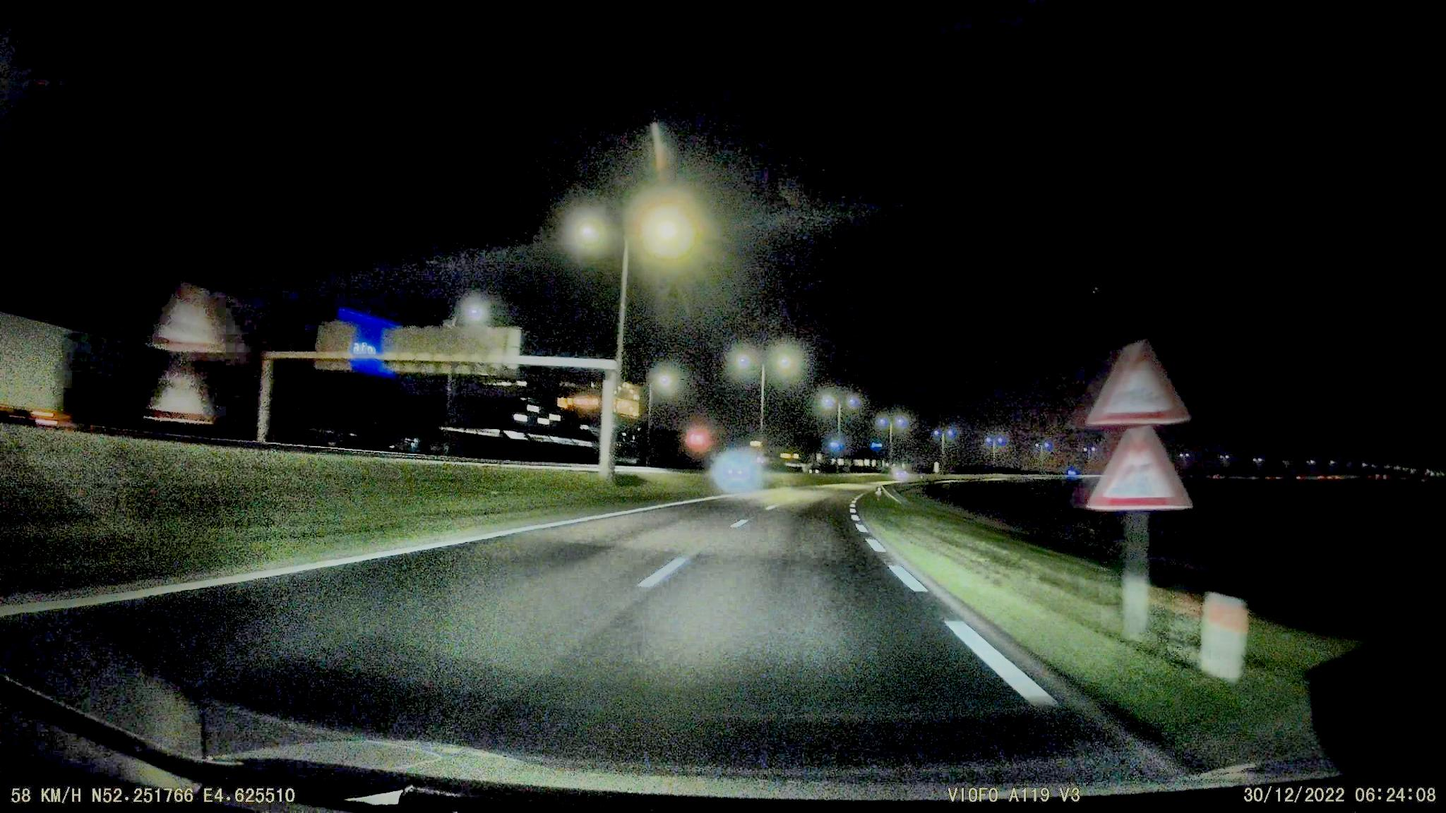Roads: (0, 480, 1117, 803)
